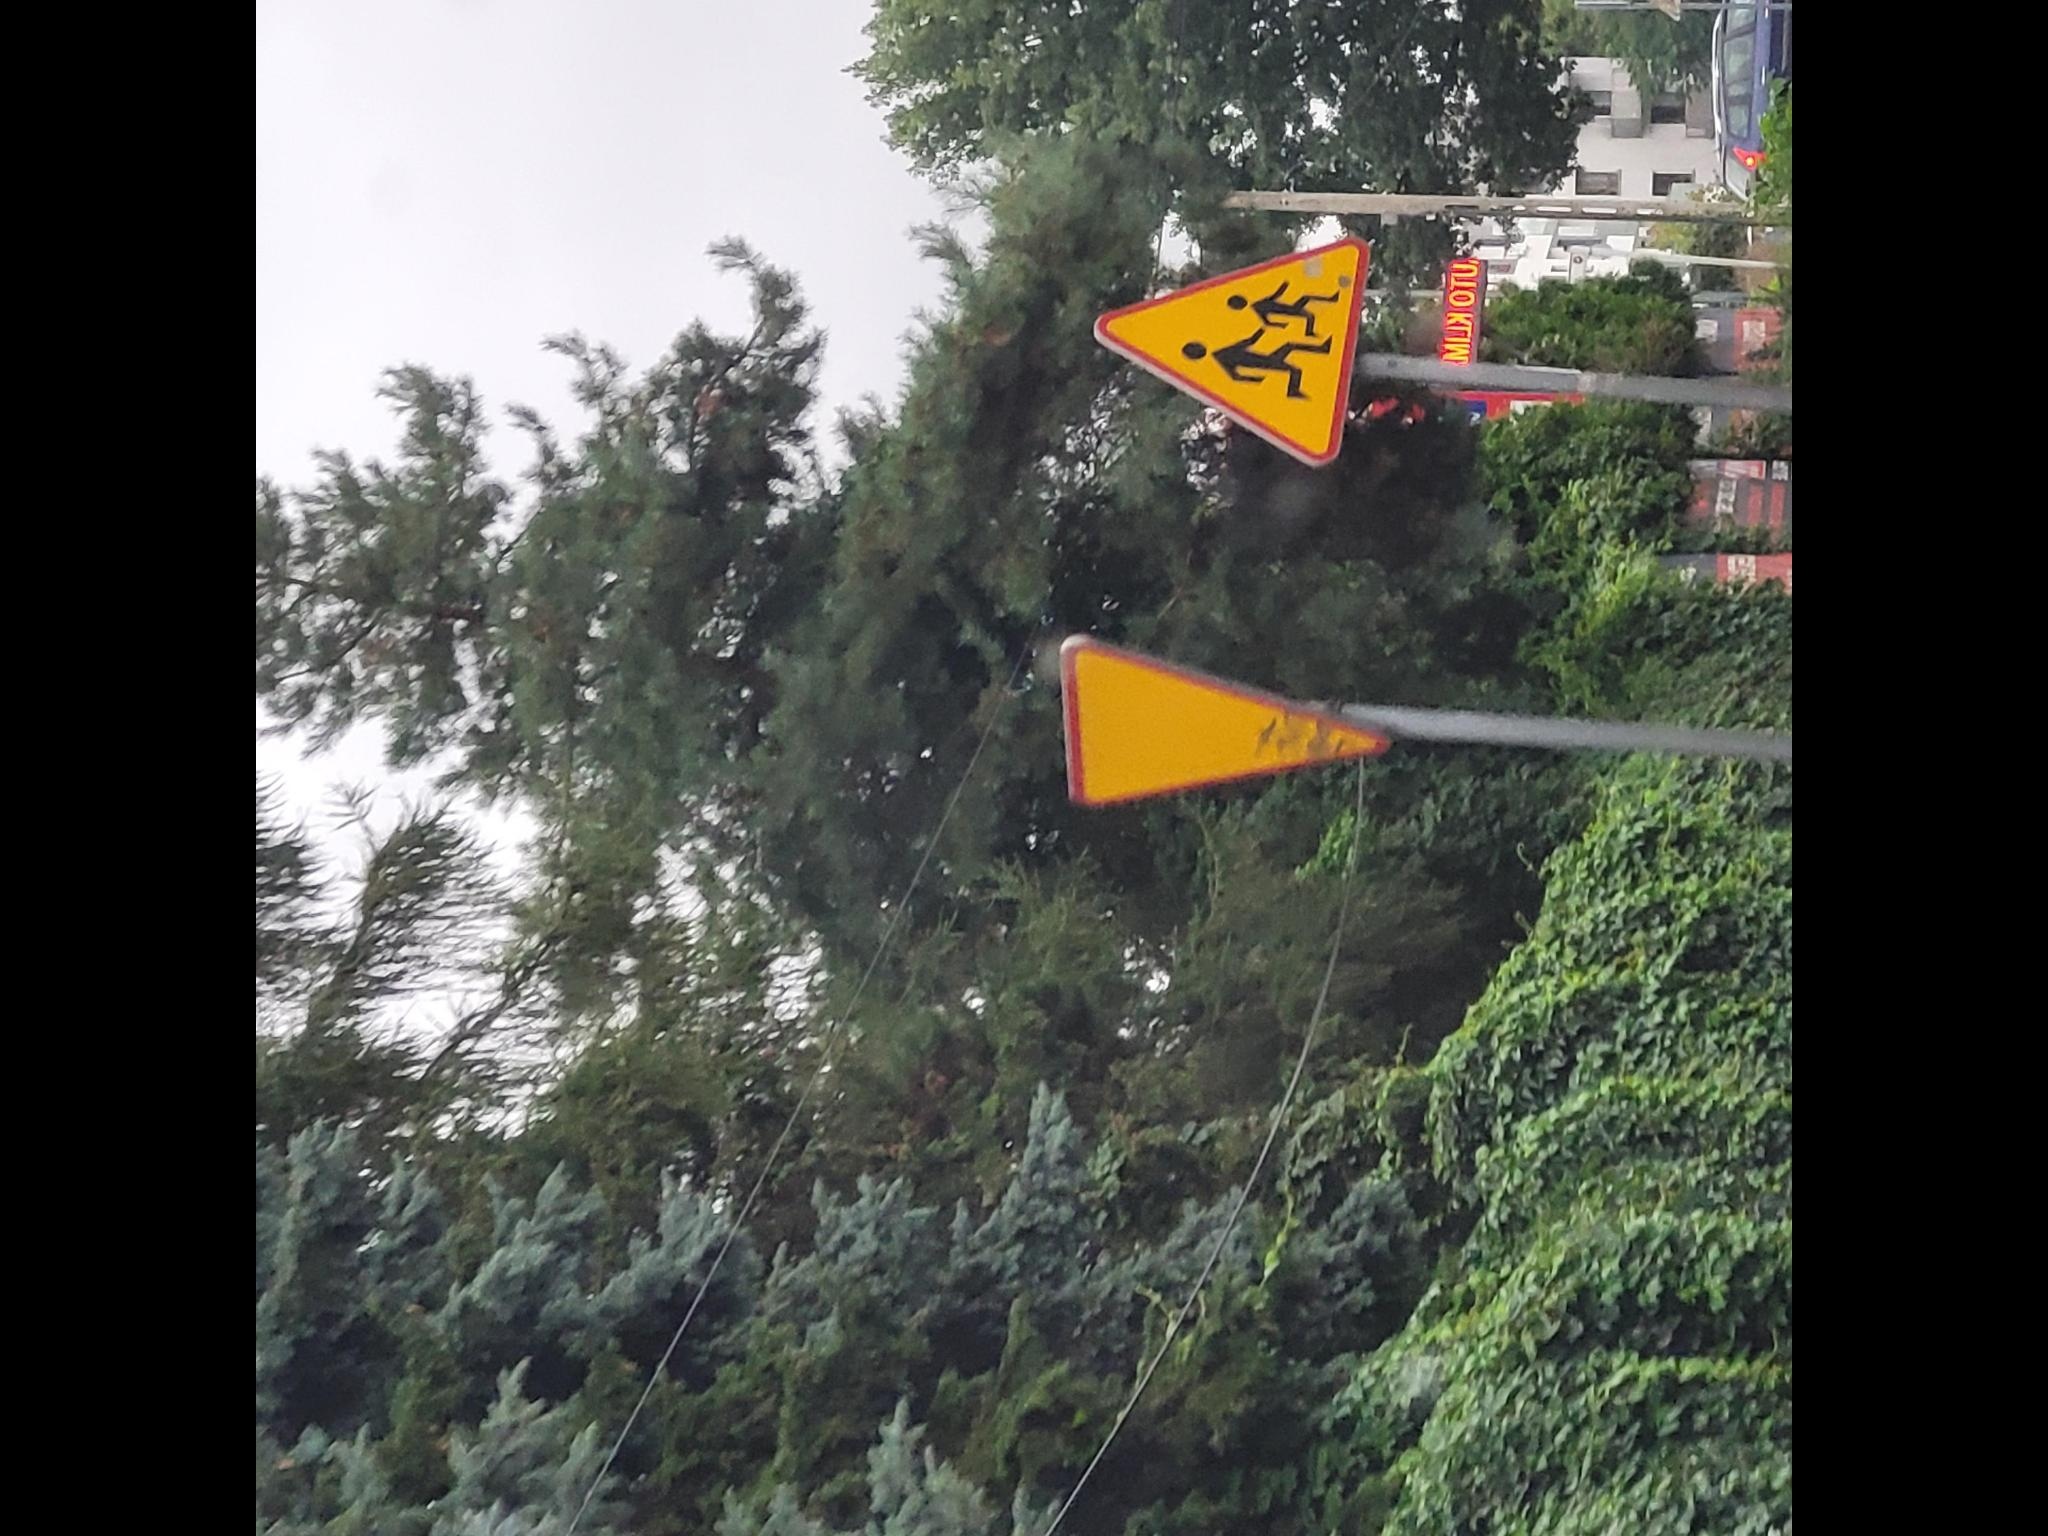warning: (1092, 232, 1371, 468), (1058, 634, 1393, 810)
